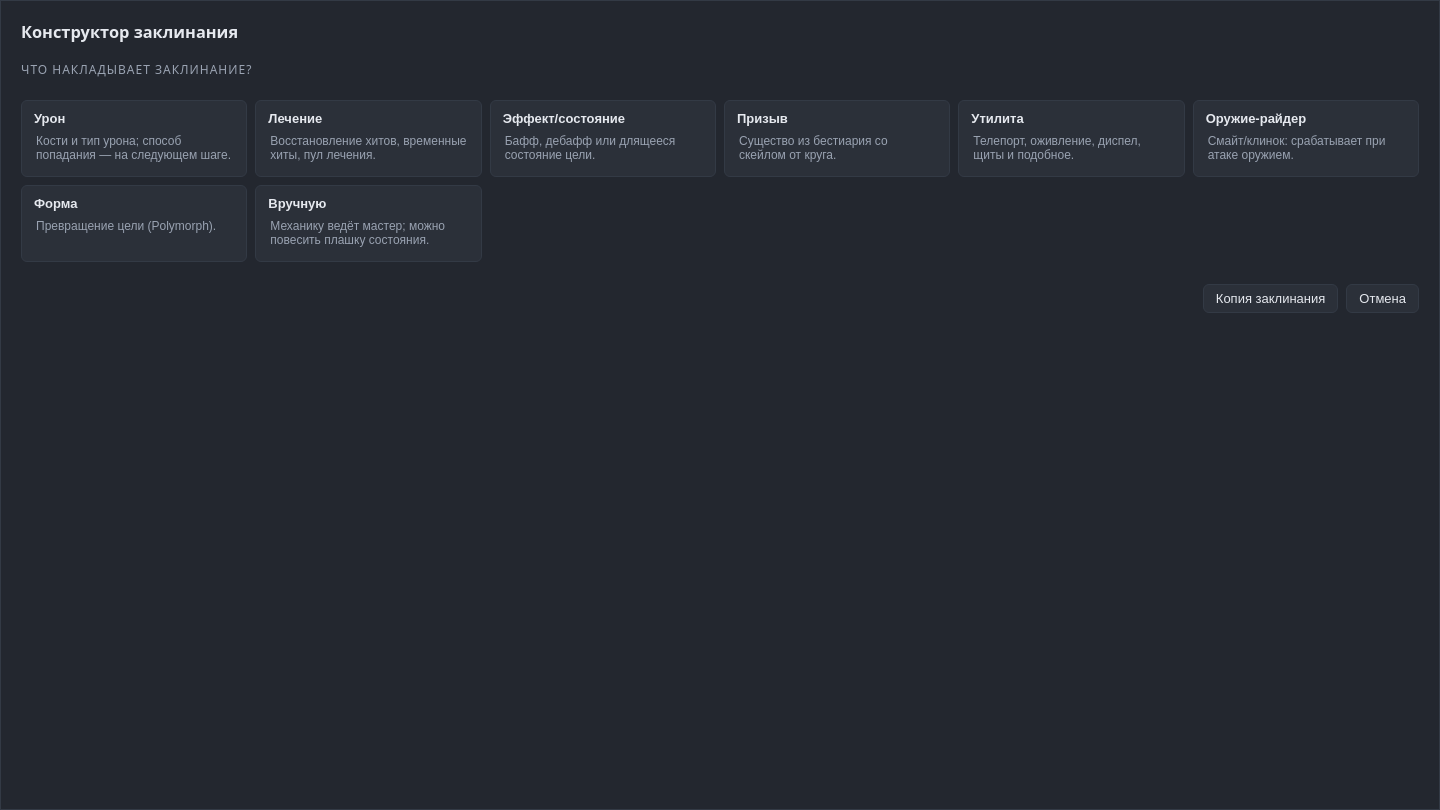
Test case: SpellConstructorModal (R16 К1) › мастер: две оси создают запись и открывают форму
The width and height of the screenshot is (1440, 810).
Click the button "Лечение Восстановление хитов, временные хиты, пул лечения." at [368, 138], box [255, 100, 482, 177]
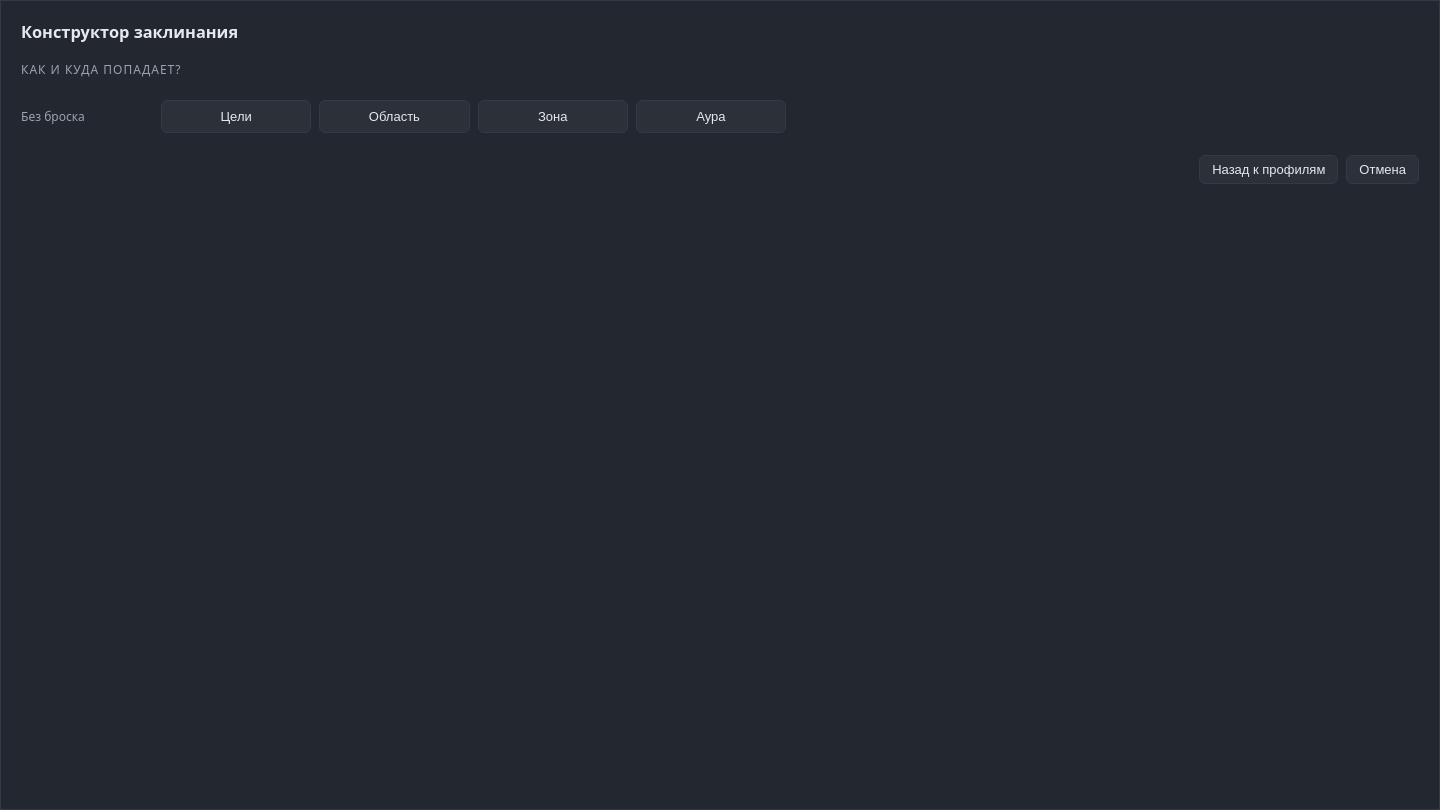
Click the button with aria-label "Без броска: Цели" at [236, 116], box [161, 100, 311, 133]
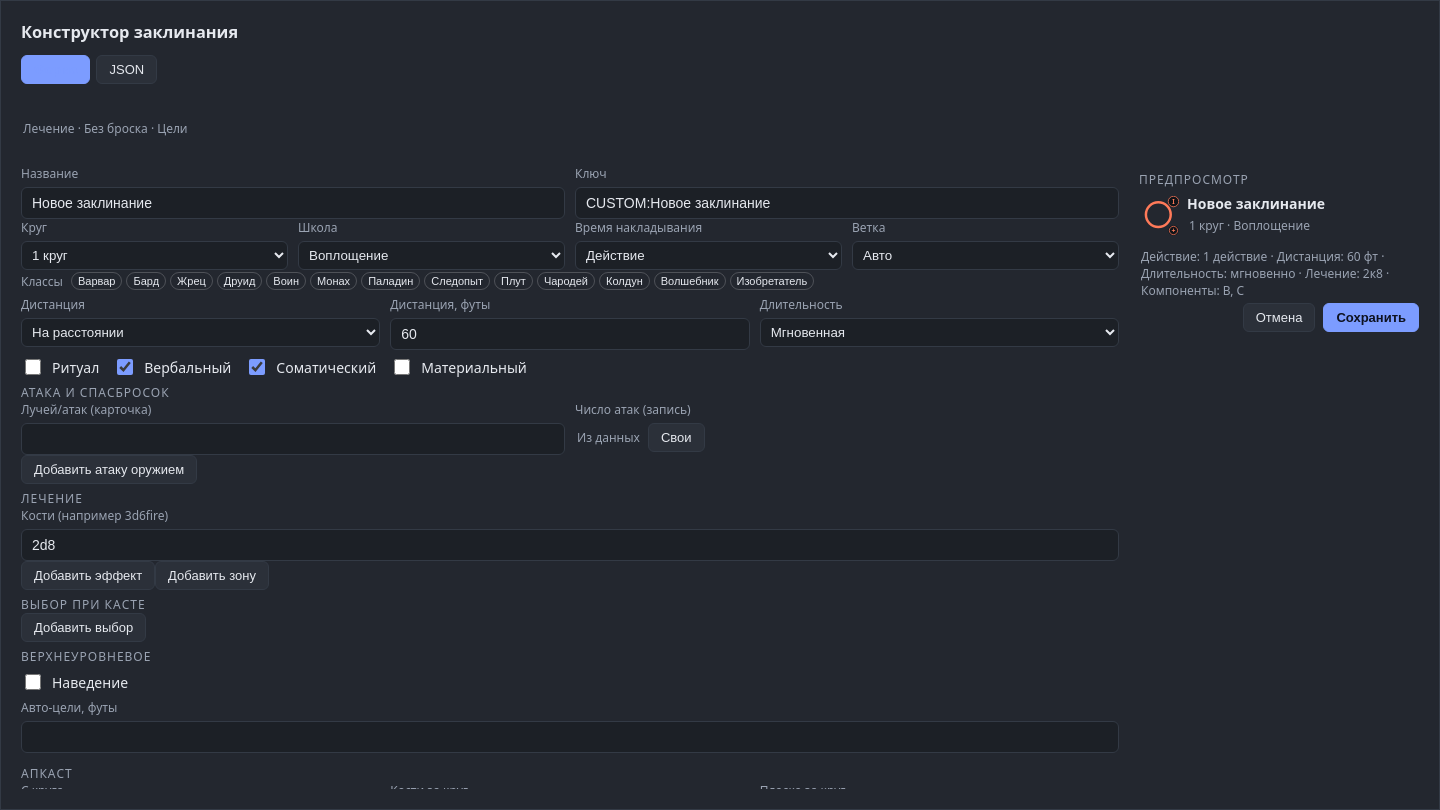
Expected: the field labelled "Название" holds "Новое заклинание", [21, 187, 565, 219]
Expected: the button "Сохранить" is enabled, [1323, 303, 1419, 332]
Expected: the text "Лечение" is shown, [21, 490, 83, 507]
